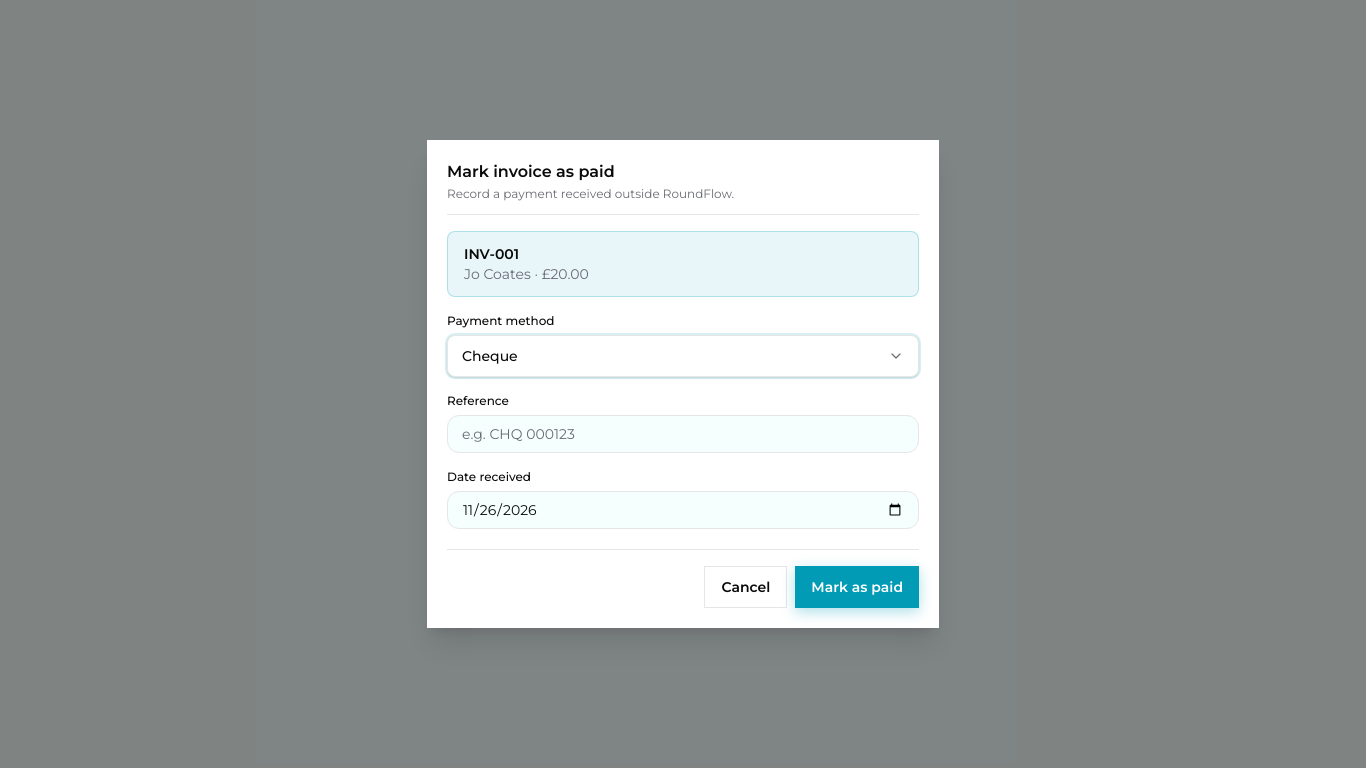
Test: MarkInvoicePaidModal (GAP-027 part 2) › records method, reference and date, then refreshes everything that shows the balance
Check: the text "Jo Coates · £20.00" is shown, box [464,265,589,283]
Click the button with aria-label "Payment method" at (490, 356), box [447,335,919,377]
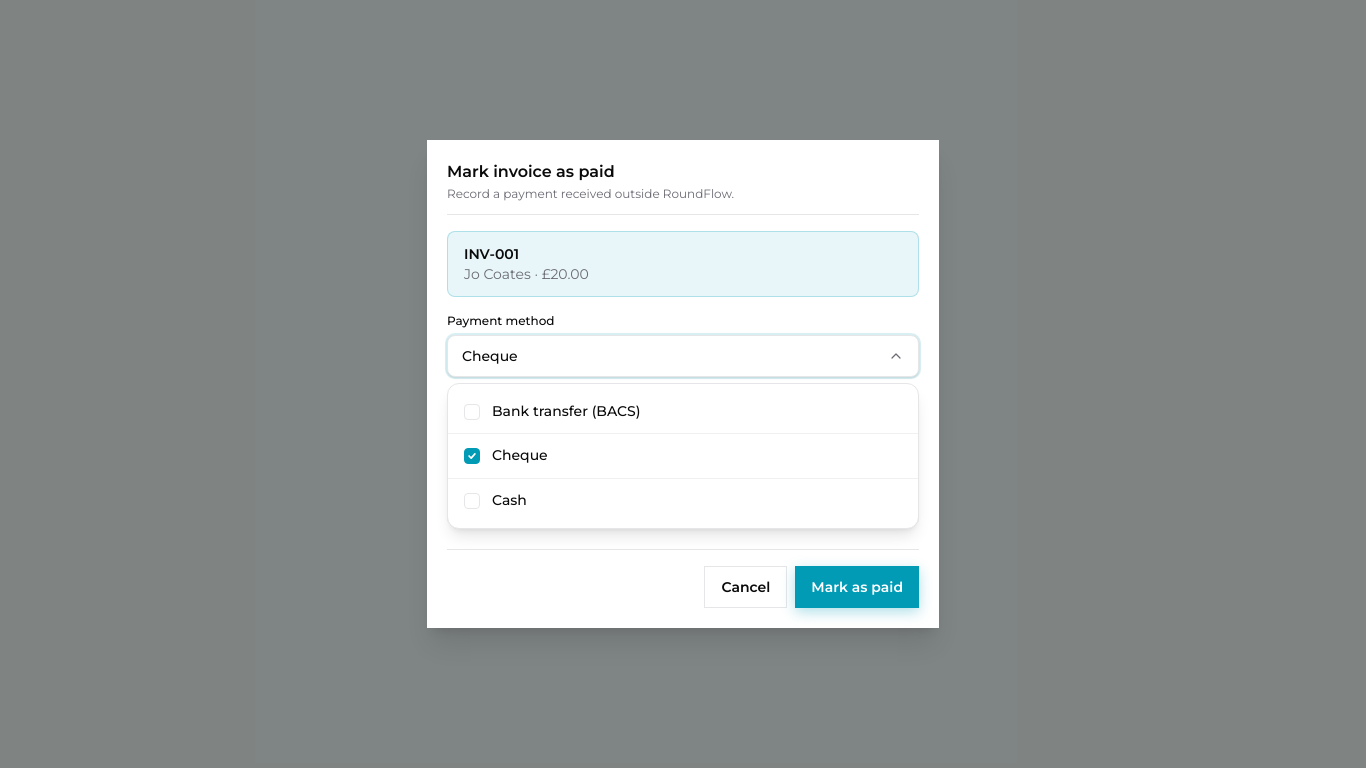
Click the option "Cash" at (509, 500), box [448,478,918,522]
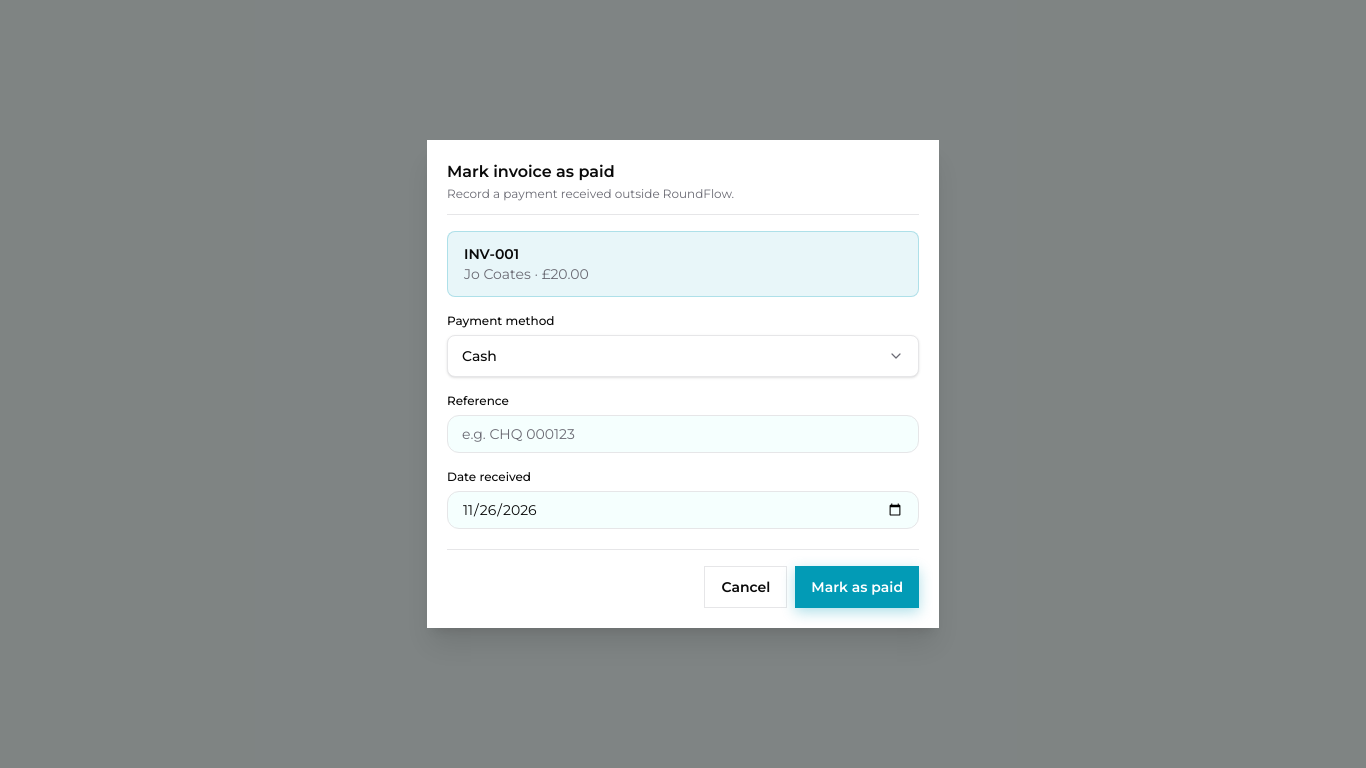
Type "  CHQ 000123 " into the field named "Reference" at (683, 434), box [447,415,919,453]
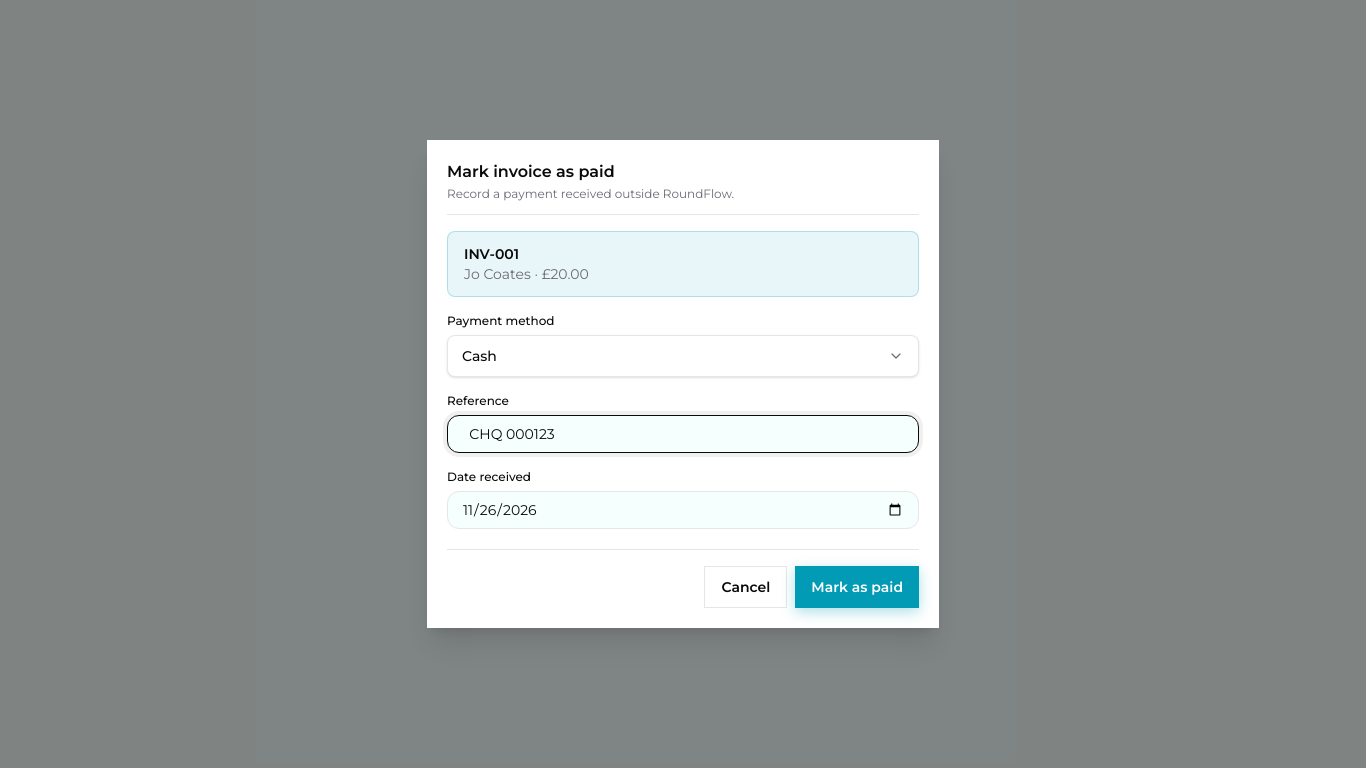
Type "2026-10-29" into the date field named "Date received" at (683, 510), box [447,491,919,529]
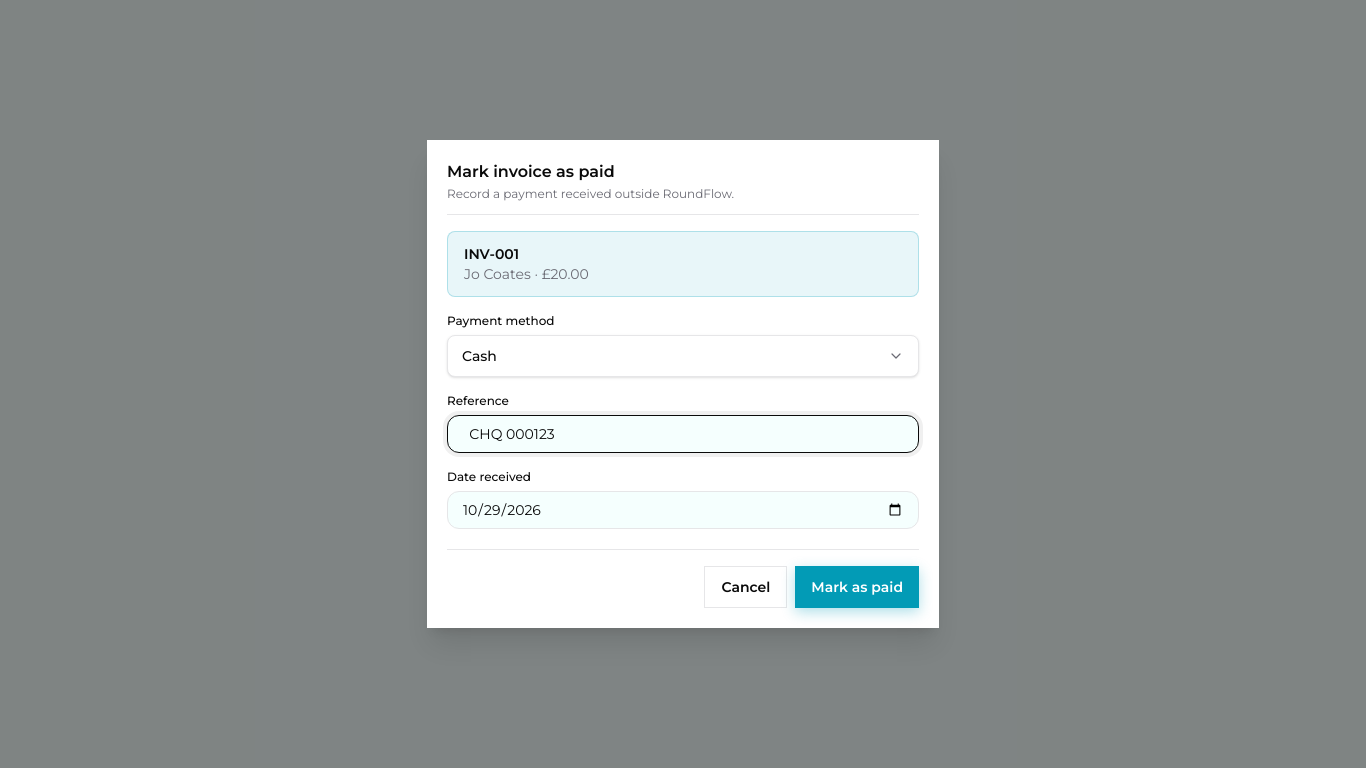
Click the button "Mark as paid" at (857, 587), box [795,566,919,608]
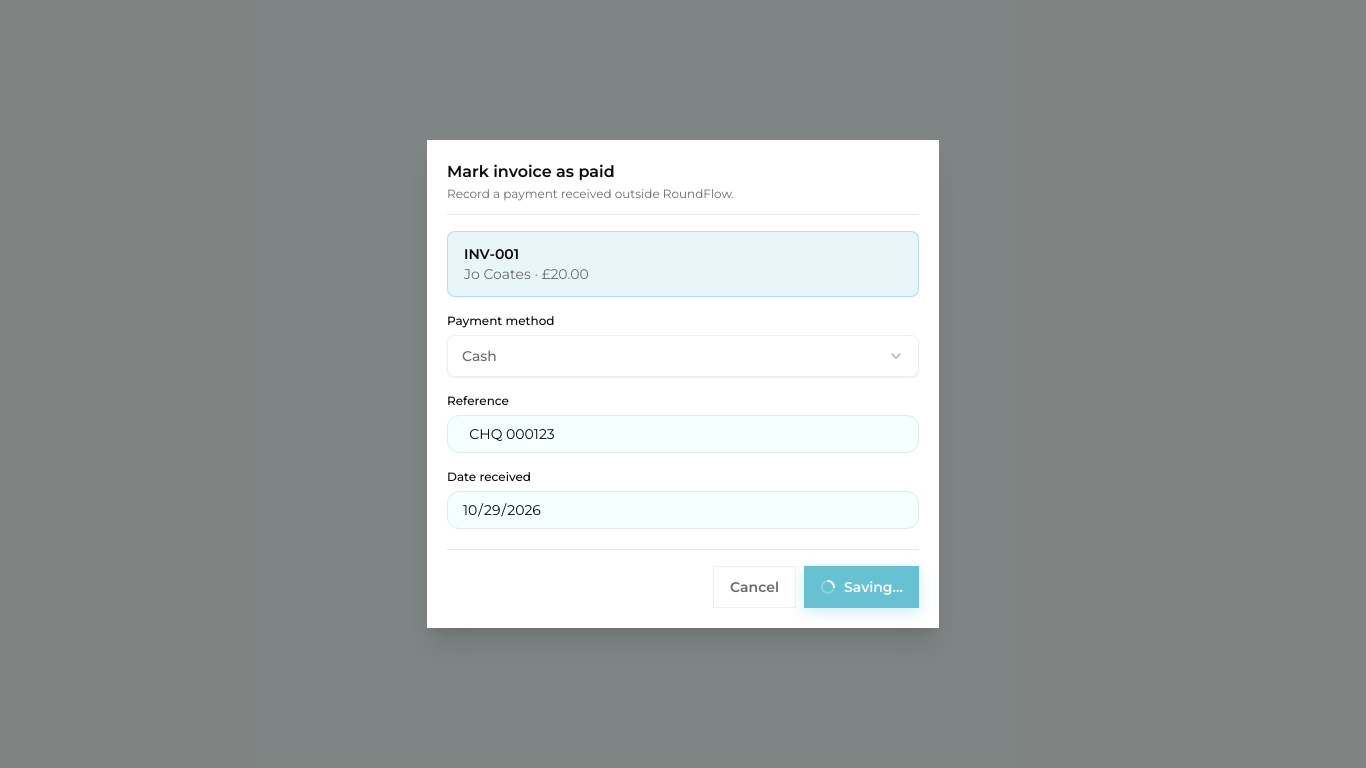
Check: the button "Saving…" is shown, box [804,566,919,608]
Press Escape
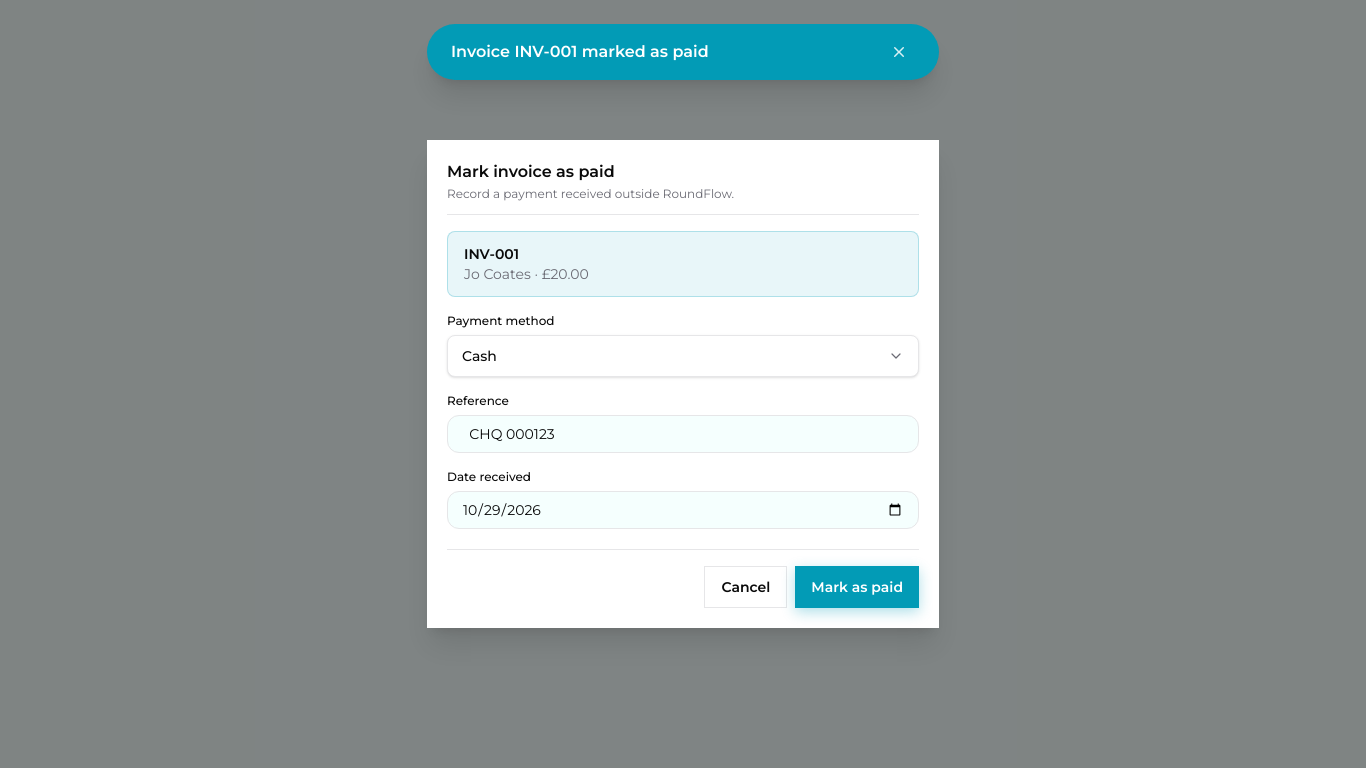
Check: the text "Invoice INV-001 marked as paid" is shown, box [451,40,709,64]
